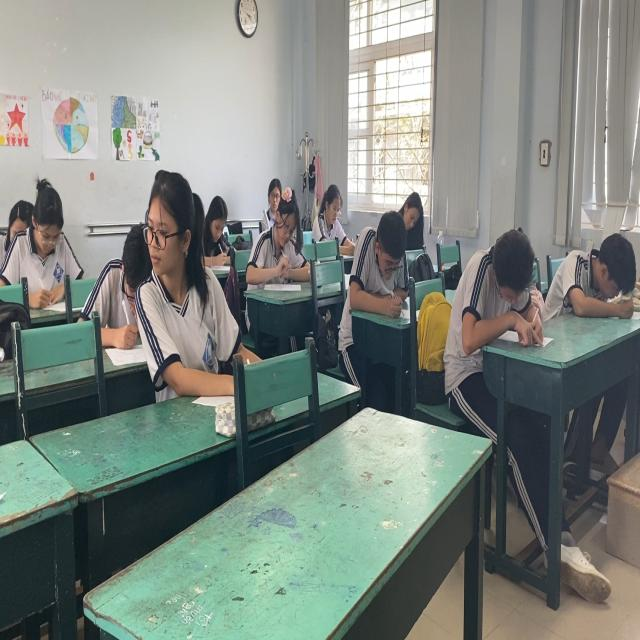cheating: (128, 165, 230, 365)
not_cheating: (457, 221, 539, 342), (10, 165, 84, 296), (552, 238, 640, 332), (350, 210, 416, 324), (254, 173, 304, 279), (313, 179, 346, 248), (399, 187, 432, 241)
